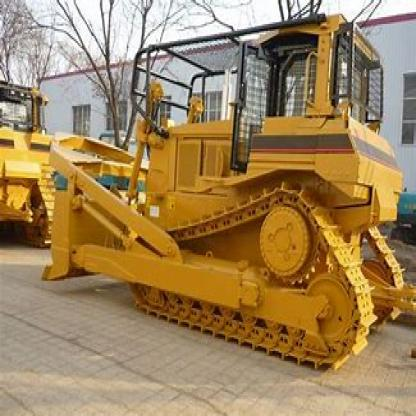bull_dozer/loader/grader: (35, 10, 414, 384)
